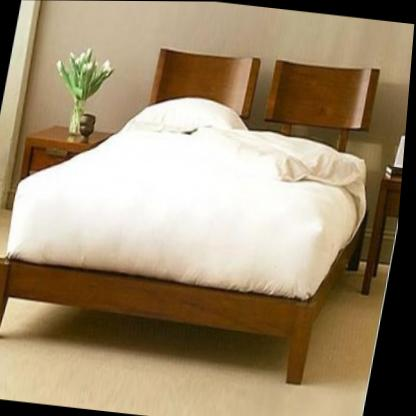Bed: (0, 47, 381, 385)
